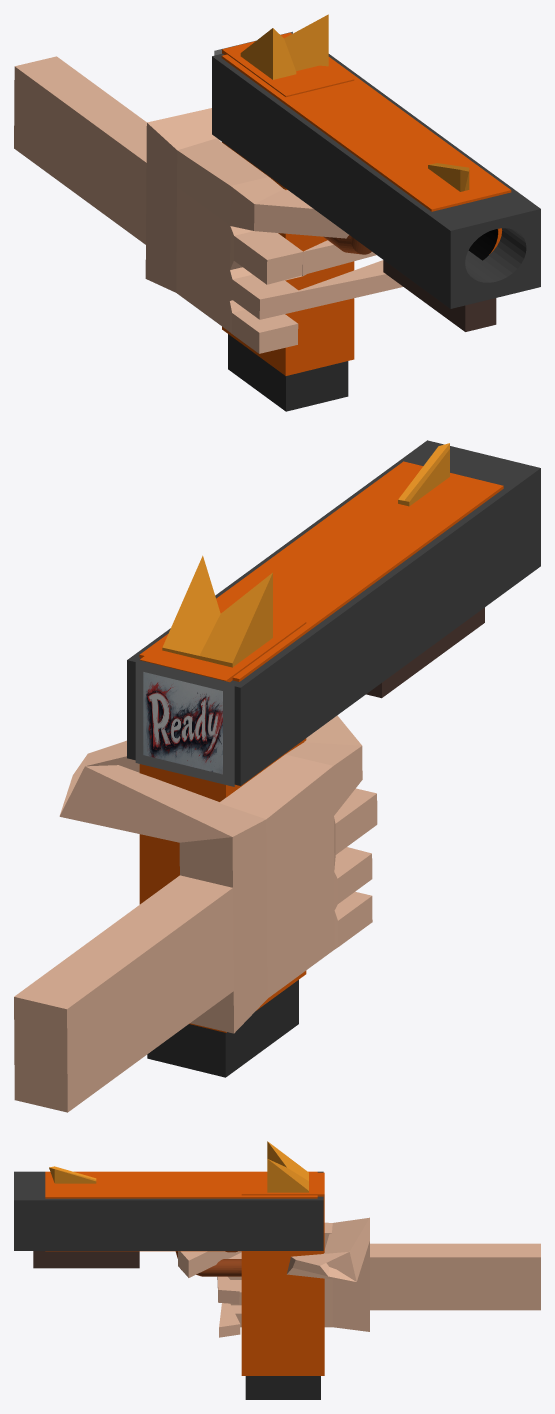
The model's file is gun pistol ready.fbx.
The picture shows the model from 3 angles, top to bottom: view 1: azimuth 30°, elevation 25°; view 2: azimuth 150°, elevation 25°; view 3: azimuth 270°, elevation 25°; orthographic projection. The views are drawn at different scales.
Visible parts, largest first — view 1: Cube, Cube.005, Cube.001, Cube.002, Cube.004, Cube.006, Cube.003, Cube.007, Cylinder.002, Cylinder; view 2: Cube, Cube.005, Cube.001, Cube.006, Plane.001, Cube.002, Cube.004, Plane, Cube.003, Cube.007; view 3: Cube, Cube.005, Cube.002, Cube.001, Cube.003, Cube.004, Cube.006, Cylinder, Cube.007.
Boxes of the visible parts, x1=… form: Cube: x1=14, y1=56, x2=402, y2=353; Cube.005: x1=212, y1=53, x2=540, y2=308; Cube.001: x1=221, y1=54, x2=511, y2=254; Cube.002: x1=222, y1=32, x2=354, y2=375; Cube.004: x1=228, y1=334, x2=348, y2=411; Cube.006: x1=240, y1=14, x2=328, y2=79; Cube.003: x1=383, y1=260, x2=496, y2=331; Cube.007: x1=428, y1=163, x2=469, y2=191; Cylinder.002: x1=468, y1=229, x2=497, y2=260; Cylinder: x1=323, y1=235, x2=371, y2=254; Cube: x1=14, y1=715, x2=377, y2=1112; Cube.005: x1=127, y1=440, x2=540, y2=785; Cube.001: x1=139, y1=461, x2=503, y2=681; Cube.006: x1=162, y1=555, x2=272, y2=667; Plane.001: x1=143, y1=672, x2=222, y2=774; Cube.002: x1=139, y1=601, x2=306, y2=1032; Cube.004: x1=147, y1=980, x2=298, y2=1077; Plane: x1=135, y1=659, x2=234, y2=786; Cube.003: x1=366, y1=607, x2=484, y2=698; Cube.007: x1=398, y1=443, x2=449, y2=506; Cube: x1=178, y1=1217, x2=540, y2=1337; Cube.005: x1=14, y1=1171, x2=323, y2=1250; Cube.002: x1=241, y1=1172, x2=324, y2=1375; Cube.001: x1=45, y1=1171, x2=317, y2=1251; Cube.003: x1=33, y1=1251, x2=139, y2=1268; Cube.004: x1=245, y1=1376, x2=320, y2=1399; Cube.006: x1=267, y1=1141, x2=308, y2=1192; Cylinder: x1=175, y1=1251, x2=241, y2=1276; Cube.007: x1=49, y1=1166, x2=96, y2=1183.
Bounding box in the file's own units: 159 × 351 × 698.
10 materials, 1 textured.
